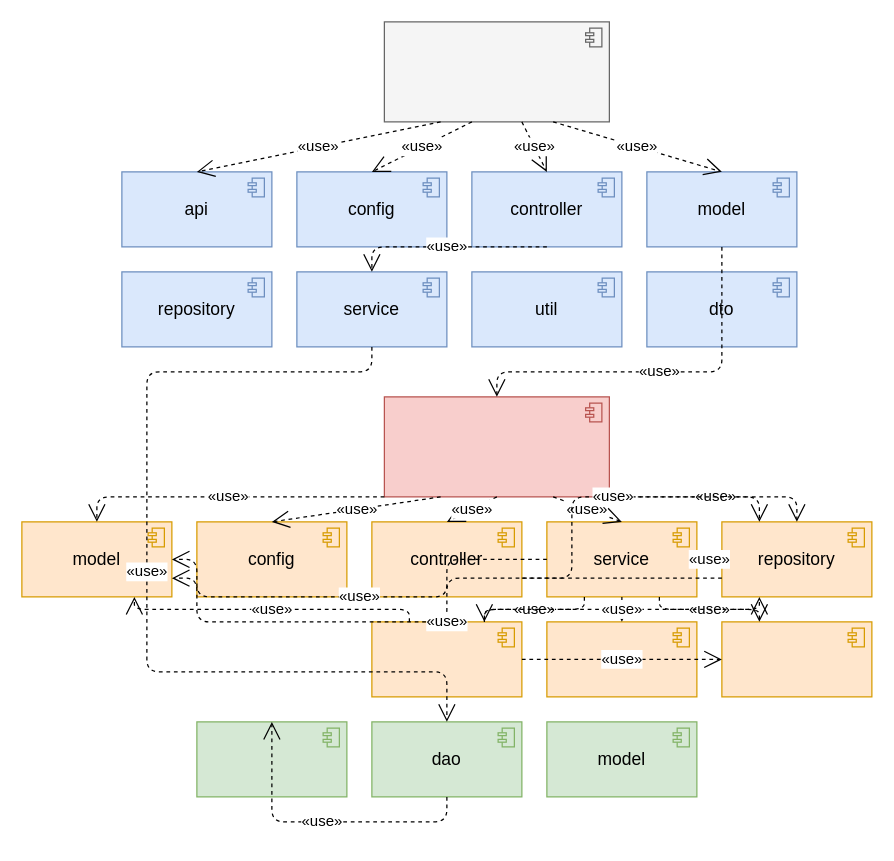
This 894x861 diagram has some shape labels left out. The box of each missing label's shape, as (x1, y1, x2, y2) in pixels:
com.example: (383, 396, 609, 497)
com.mycompany.fstudymate: (383, 21, 609, 122)
connection: (196, 721, 347, 797)
email: (721, 621, 872, 697)
otp: (371, 621, 522, 697)
service.impl: (546, 621, 697, 697)
